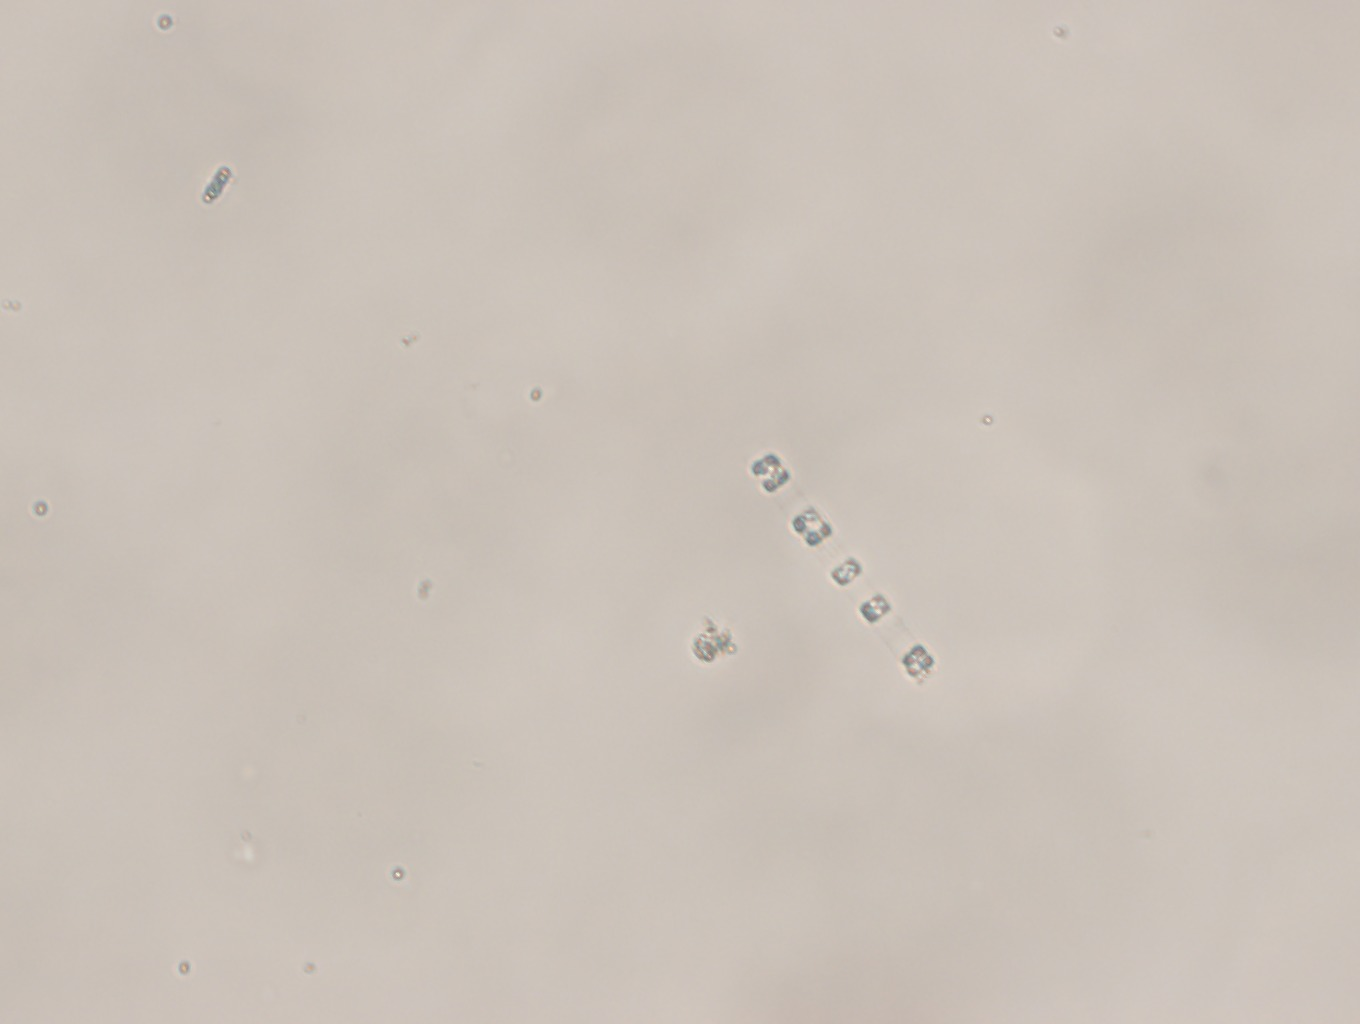skeletonema: (746, 444, 940, 683)
